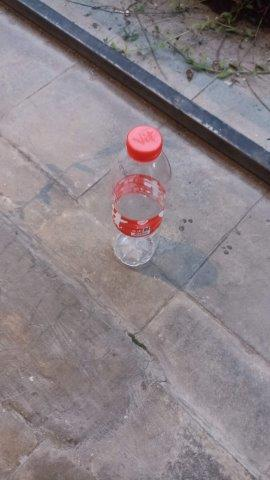botolplastik: (110, 128, 171, 269)
